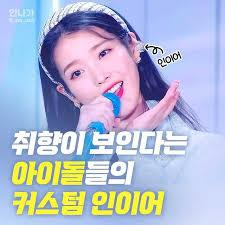earphone: (129, 39, 147, 54)
